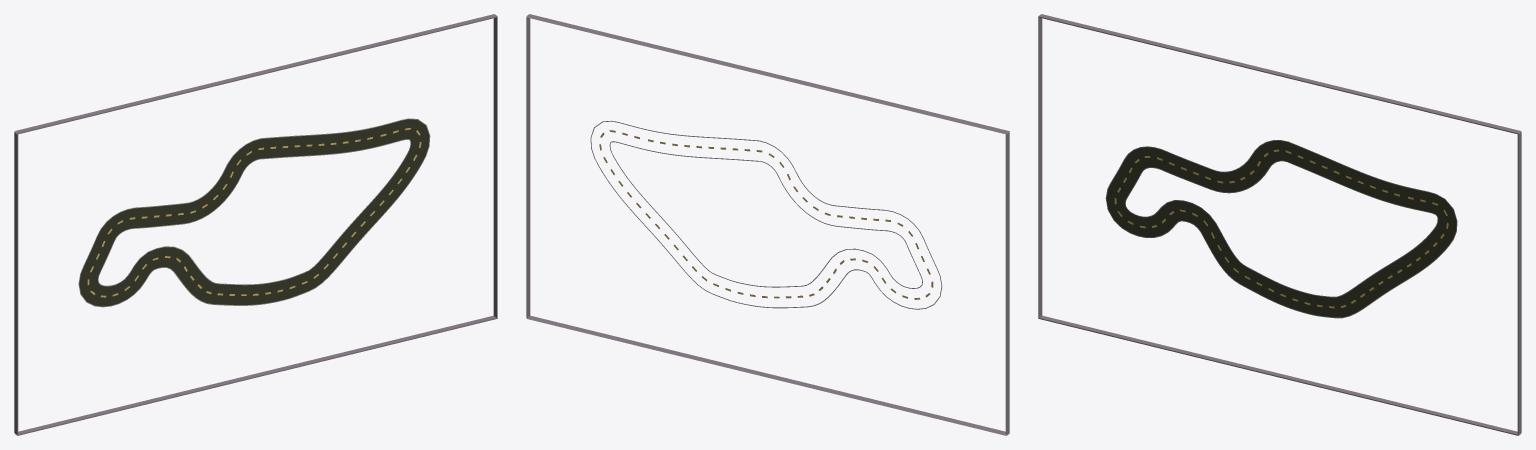
File: track.obj
The picture shows the model from 3 angles, left to right: view 1: azimuth 30°, elevation 25°; view 2: azimuth 150°, elevation 25°; view 3: azimuth 330°, elevation 25°; orthographic projection.
Size of the model in its own units: 25.55 by 15.37 by 0.3.
Materials: 4 (4 with a texture image).
